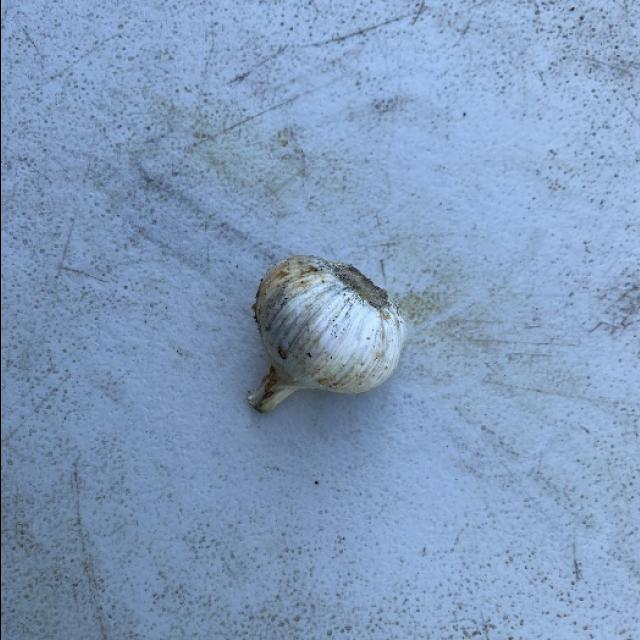organik: (244, 254, 406, 411)
